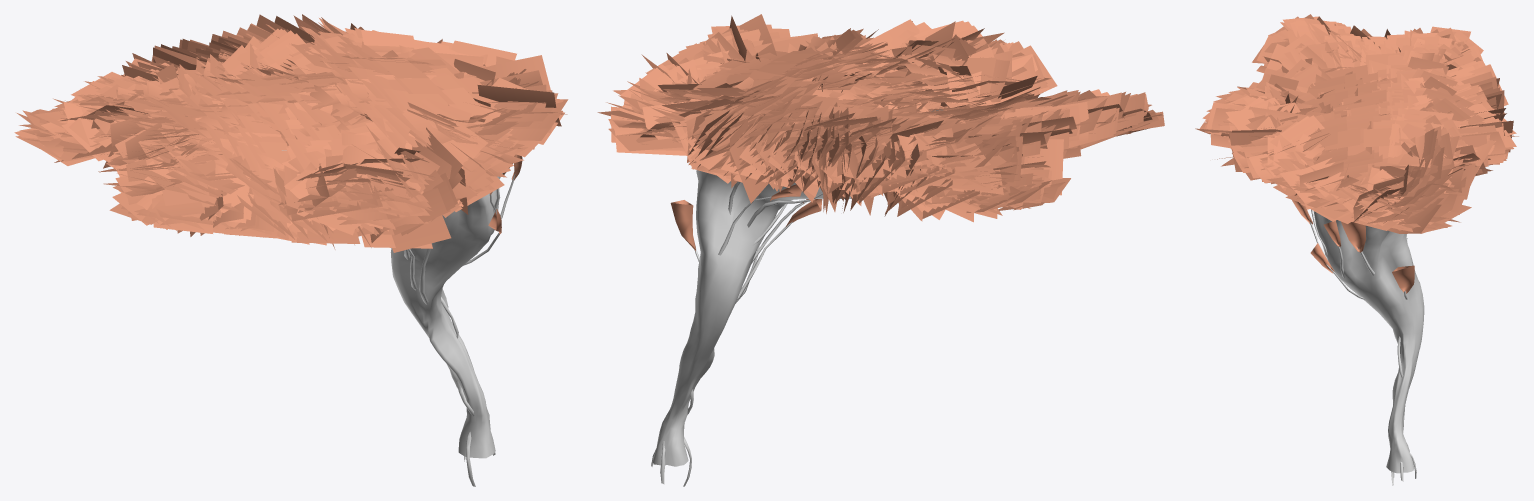
File: savTreeCypressMed.fbx
The picture shows the model from 3 angles, left to right: view 1: azimuth 30°, elevation 25°; view 2: azimuth 150°, elevation 25°; view 3: azimuth 270°, elevation 25°; orthographic projection. The views are drawn at different scales.
Visible parts, largest first — view 1: savTreeCypressMedLeaf_LOD0, savTreeCypressMed_LOD0; view 2: savTreeCypressMedLeaf_LOD0, savTreeCypressMed_LOD0; view 3: savTreeCypressMedLeaf_LOD0, savTreeCypressMed_LOD0.
Boxes of the visible parts, left/top/right/bottom form: savTreeCypressMedLeaf_LOD0: left=14, top=14, right=568, bottom=252; savTreeCypressMed_LOD0: left=282, top=150, right=515, bottom=486; savTreeCypressMedLeaf_LOD0: left=597, top=14, right=1164, bottom=250; savTreeCypressMed_LOD0: left=651, top=109, right=942, bottom=486; savTreeCypressMedLeaf_LOD0: left=1195, top=14, right=1518, bottom=293; savTreeCypressMed_LOD0: left=1309, top=209, right=1424, bottom=485.
Size of what is drawn, in the model's own units: 2031 by 1777 by 1584.
